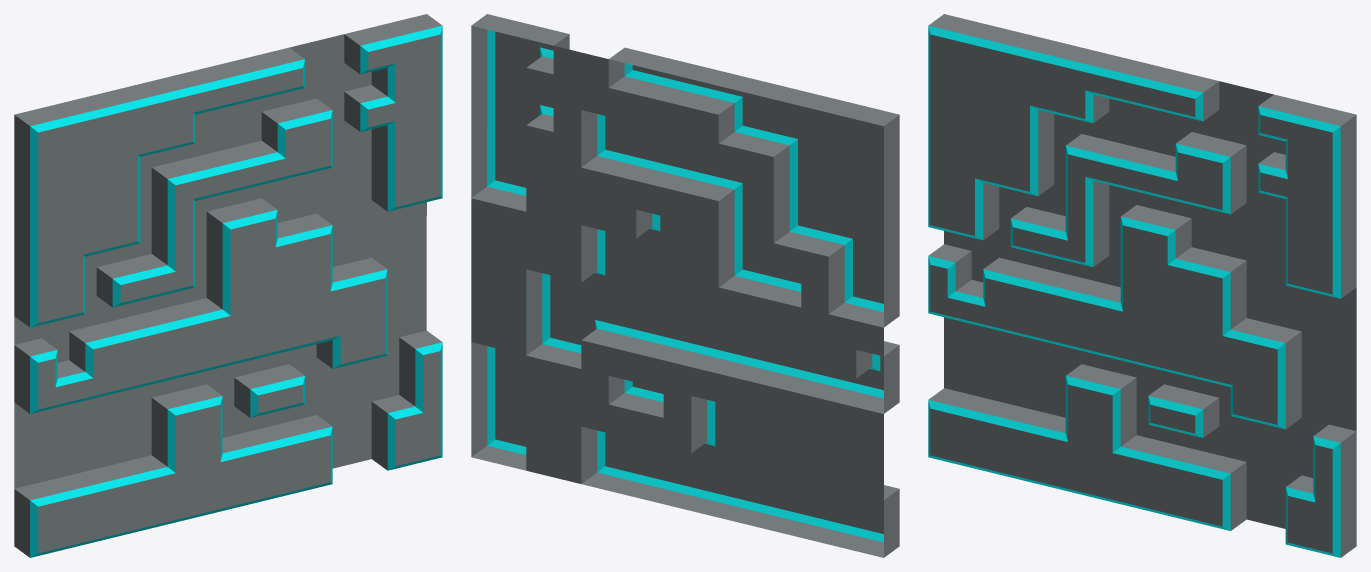
Rendered from front.fbx.
3 renders of one model, left to right at view 1: azimuth 30°, elevation 25°; view 2: azimuth 150°, elevation 25°; view 3: azimuth 330°, elevation 25°, orthographic.
Parts seen in each view (by area): view 1: polySurface1; view 2: polySurface1; view 3: polySurface1.
Boxes of the visible parts, left/top/right/bottom form: polySurface1: left=14, top=14, right=442, bottom=557; polySurface1: left=471, top=14, right=899, bottom=557; polySurface1: left=928, top=14, right=1356, bottom=557.
Bounding box in the file's own units: 240 × 19 × 240.
